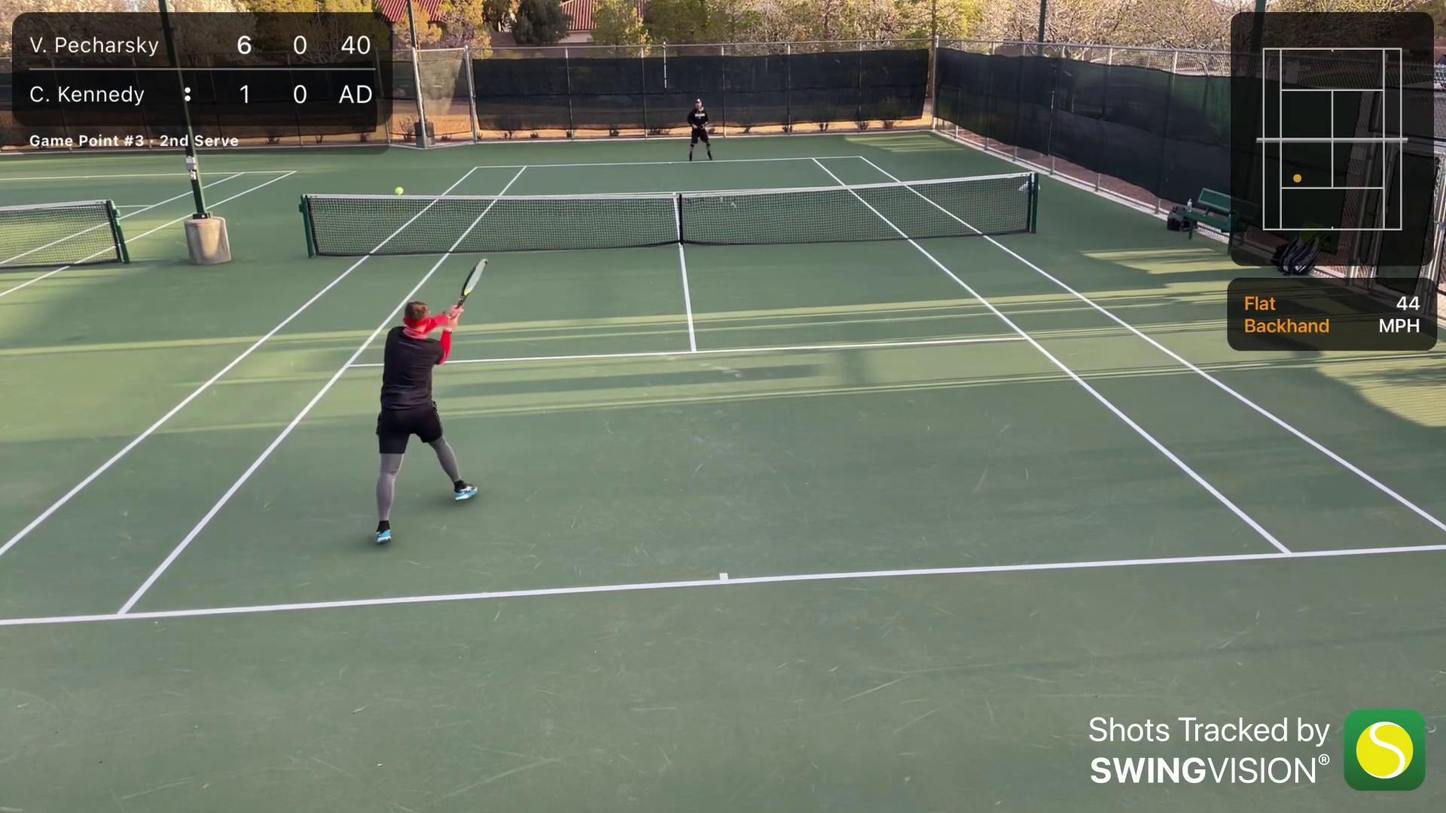ball: (392, 185, 405, 196)
